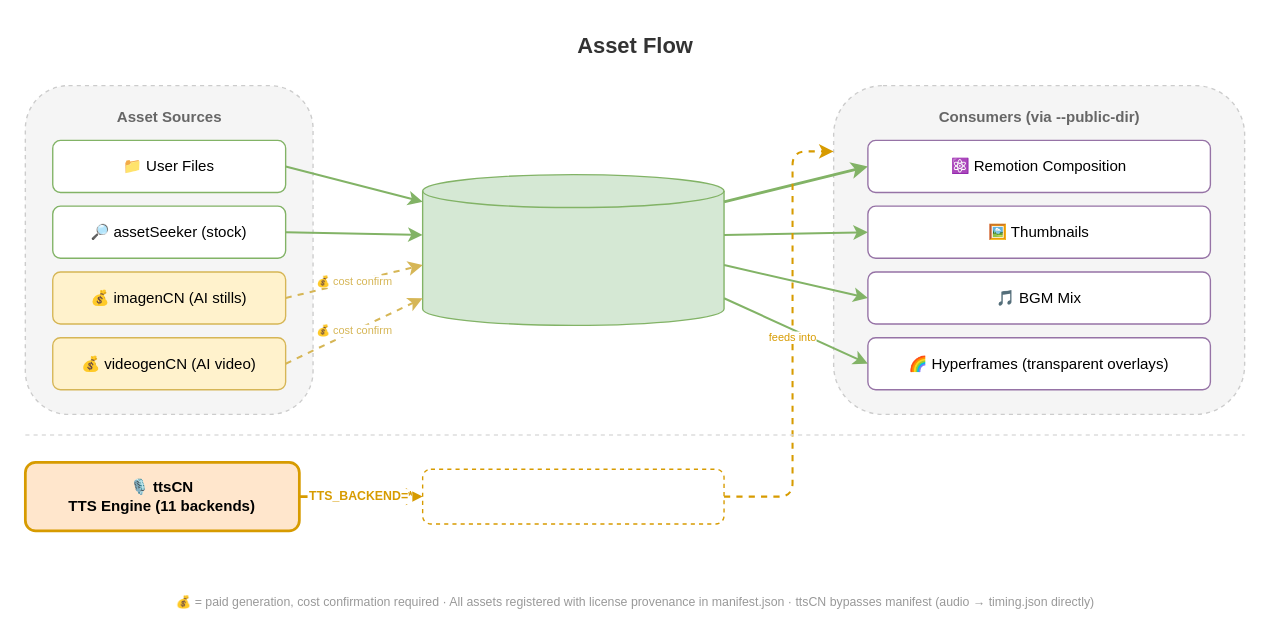
Image size: 1270x633. Some labels were removed from this diagram. The shapes that lost their labels are listed below. From the top down, each one's box as (x1, y1, x2, y2) in pixels, then its label:
(421, 173, 724, 325): 🗂️ assets/manifest.json role · source · license · status
(421, 468, 724, 524): podcast_audio.wav timing.json
